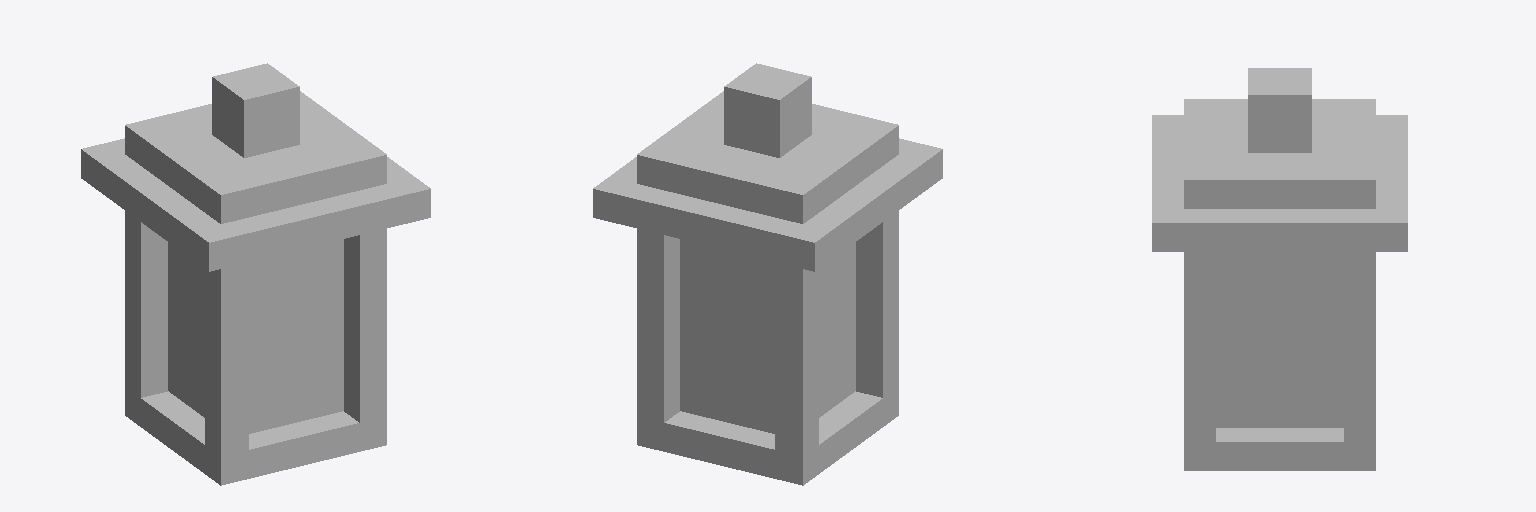
Rendered from Light.obj.
The picture shows the model from 3 angles: view 1: azimuth 30°, elevation 25°; view 2: azimuth 150°, elevation 25°; view 3: azimuth 270°, elevation 25°; orthographic projection.
Parts seen in each view (by area): view 1: object 1; view 2: object 1; view 3: object 1.
Part boxes in pixels (bbox=[...]): object 1: bbox=[81, 63, 430, 485]; object 1: bbox=[593, 63, 942, 485]; object 1: bbox=[1152, 68, 1407, 470].
Bounding box in the file's own units: 0.8 × 1.2 × 0.8.